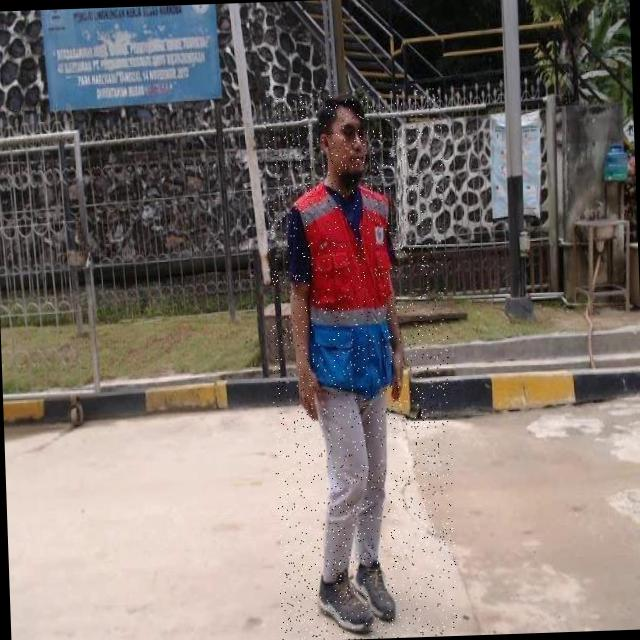safety_vest: (290, 166, 401, 412)
vehicle: (262, 80, 458, 640), (300, 91, 384, 200)
work_boots: (314, 564, 377, 640), (353, 554, 398, 628)
